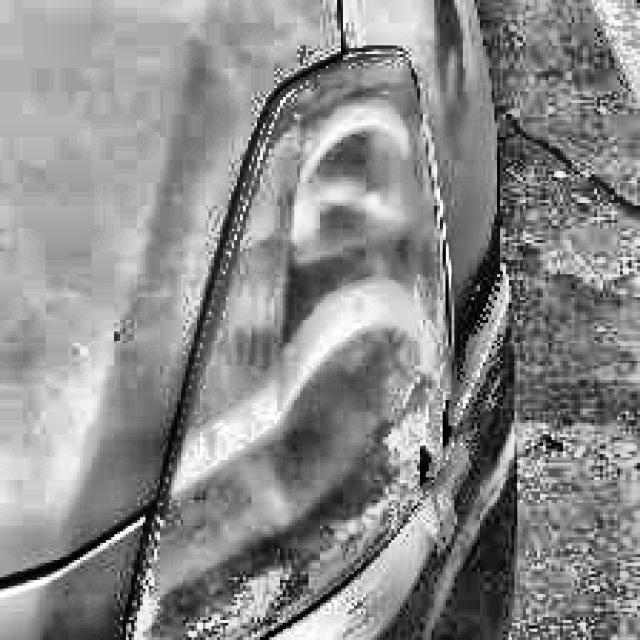head_lamp: (254, 90, 464, 535)
